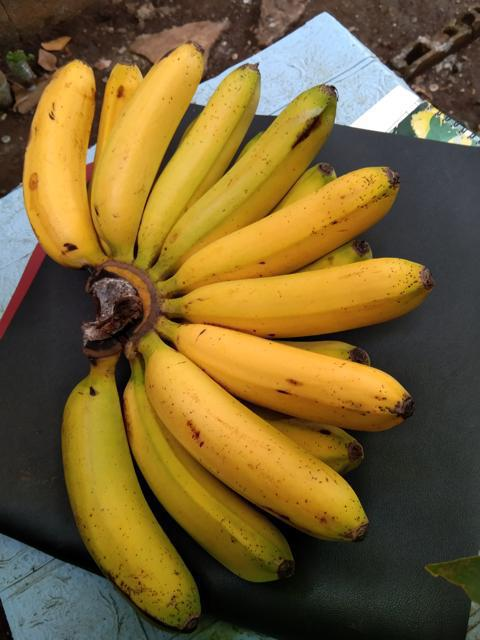freshripe: (145, 351, 379, 547), (60, 361, 198, 639), (163, 79, 334, 258), (175, 314, 414, 435), (187, 156, 392, 285), (8, 52, 120, 266), (184, 261, 442, 332)
